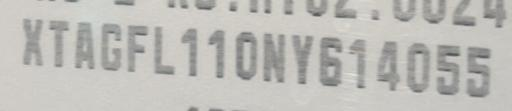letter: (372, 37, 402, 92), (404, 38, 432, 95), (463, 44, 493, 97), (432, 42, 460, 97), (316, 34, 344, 87), (260, 29, 286, 84), (290, 32, 316, 85), (46, 19, 72, 68), (152, 23, 176, 76), (346, 36, 370, 89), (20, 16, 44, 67), (234, 30, 258, 81), (178, 26, 202, 75), (74, 19, 96, 70), (126, 22, 148, 73), (100, 23, 122, 70), (206, 27, 226, 78)
